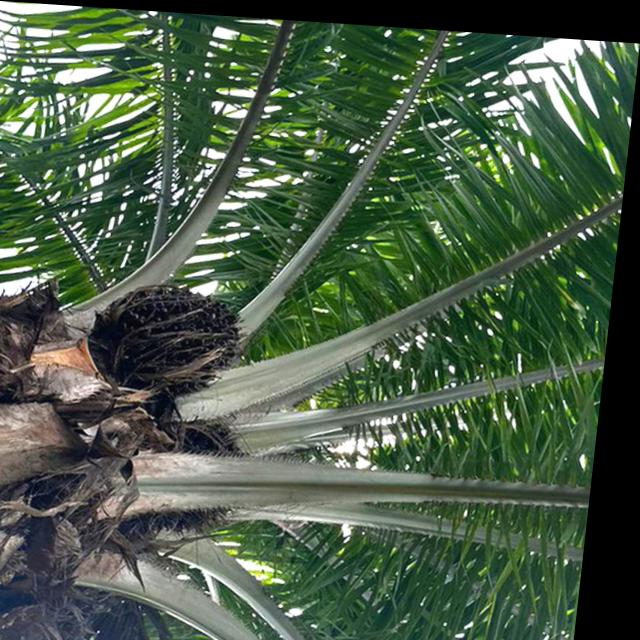almost: (93, 274, 258, 412), (120, 415, 260, 549)
